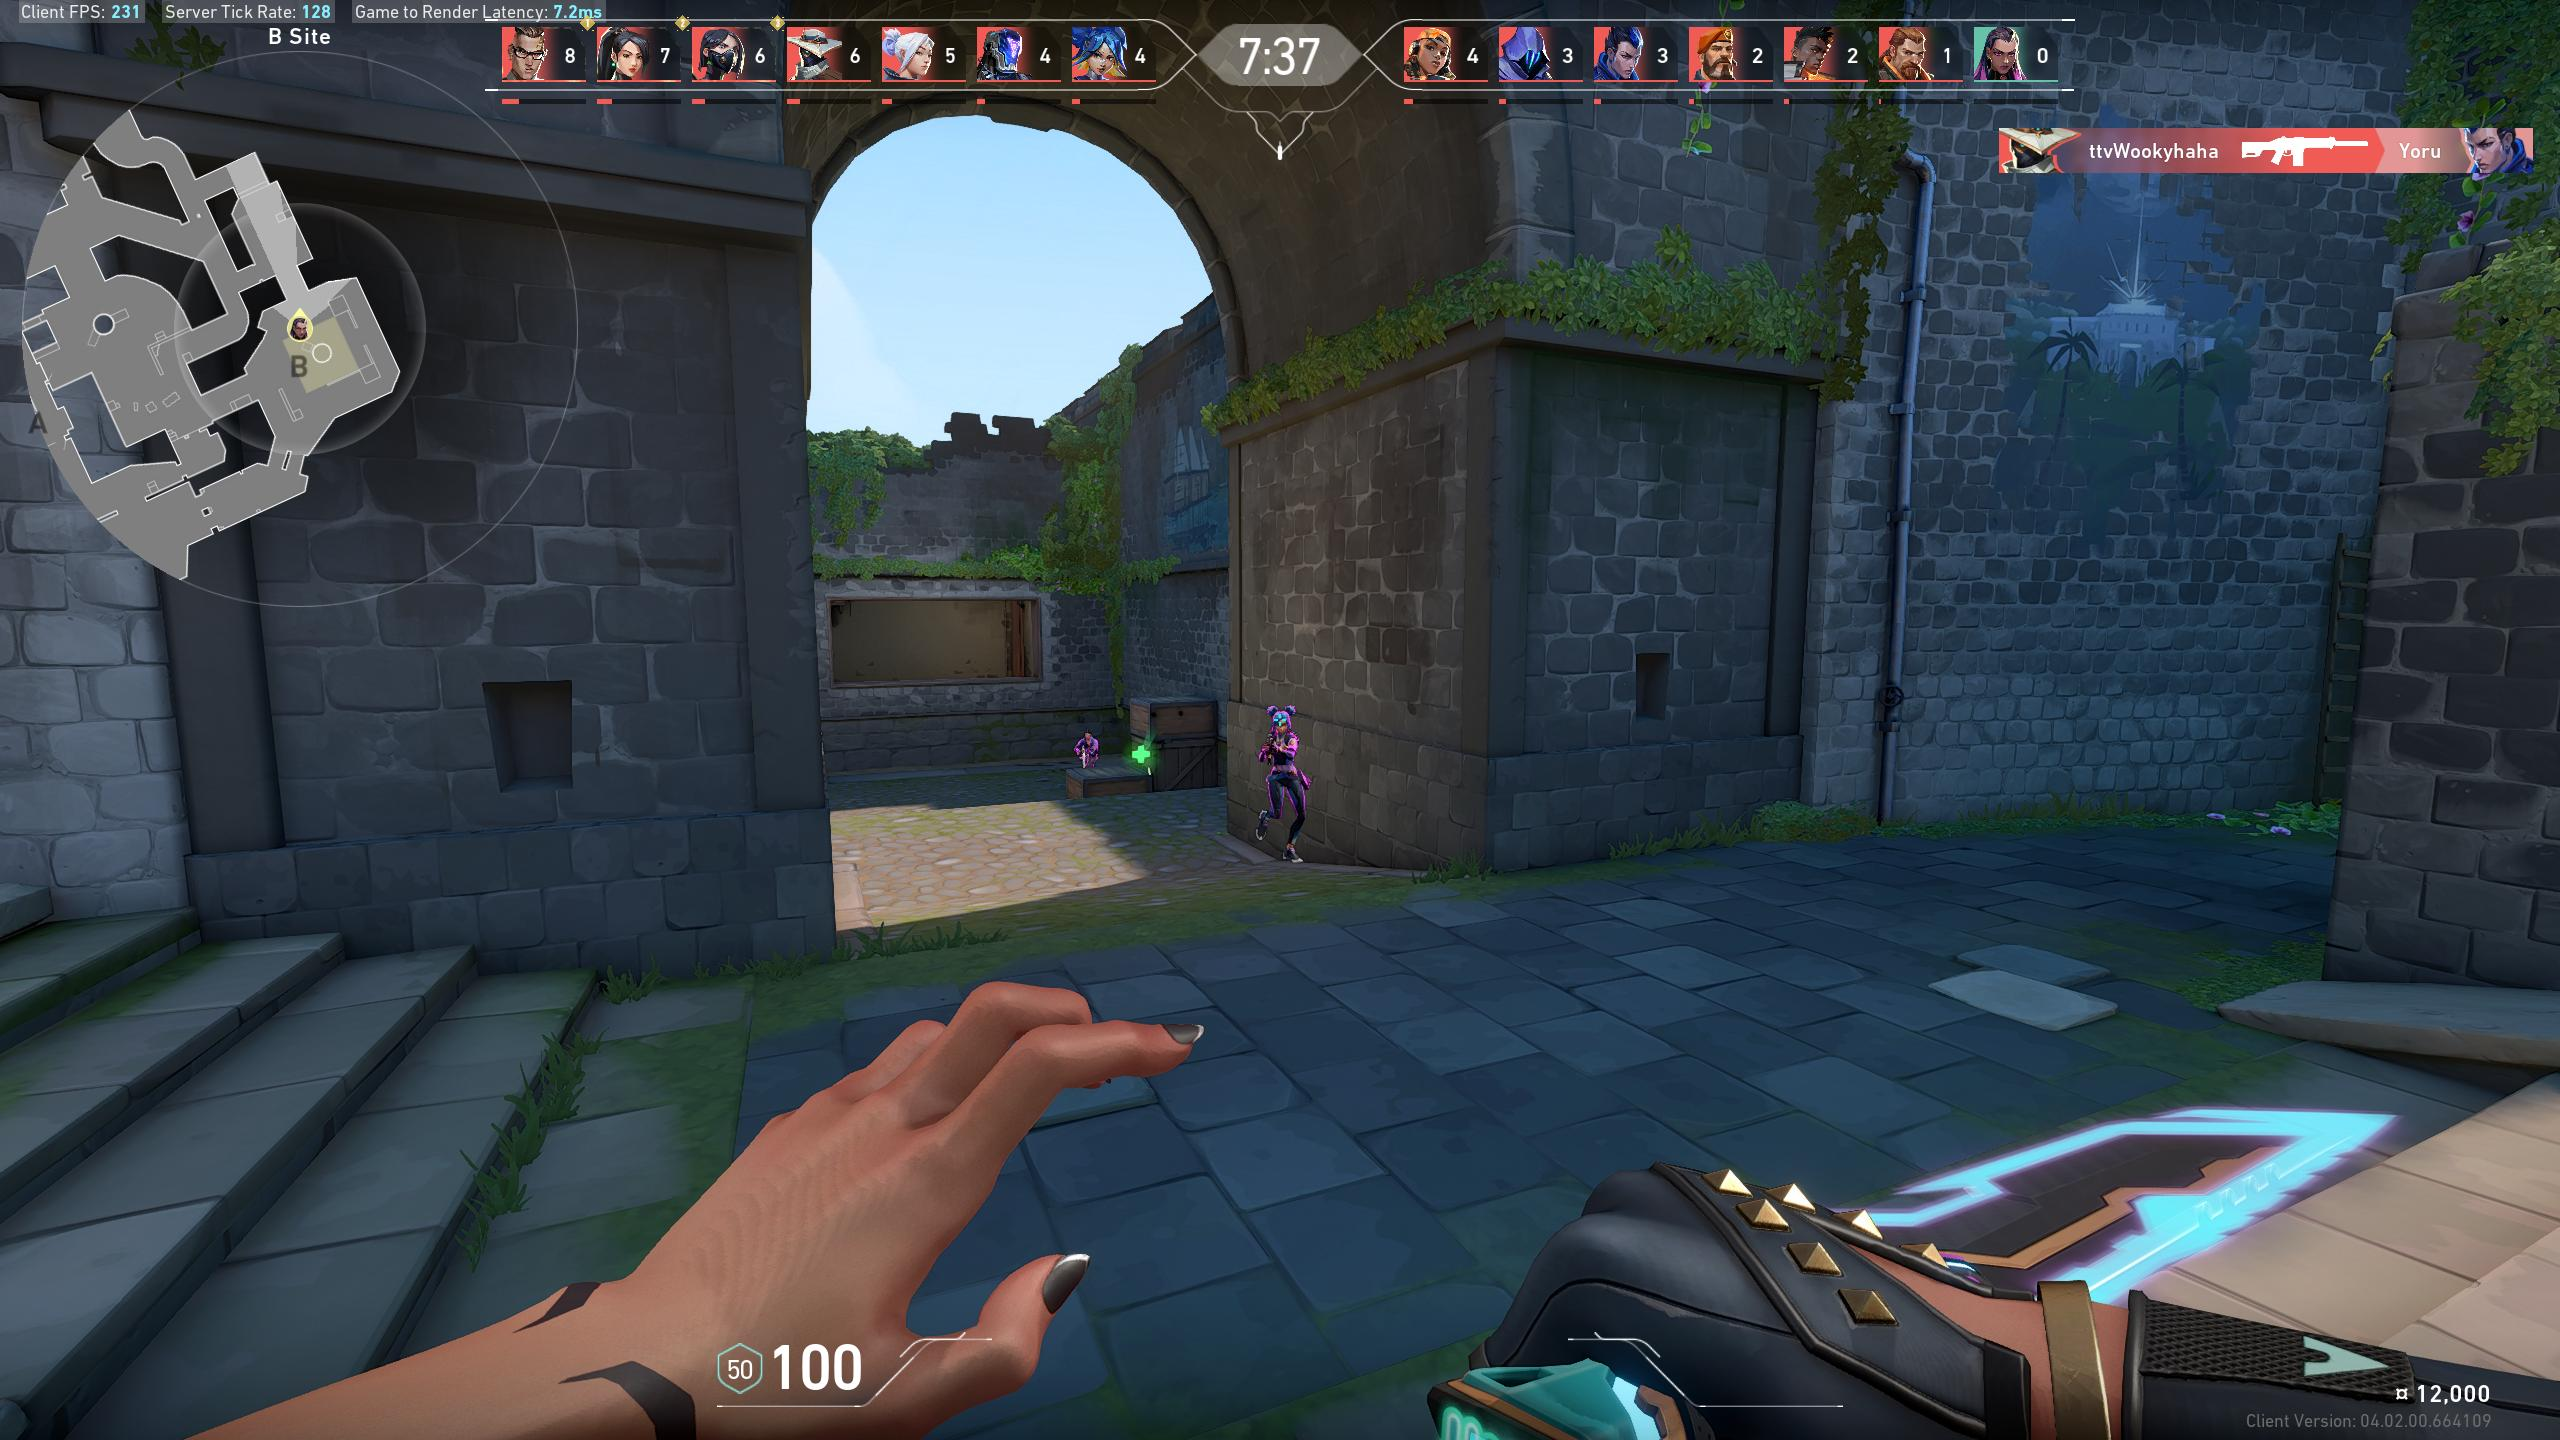enemyBody: (1273, 738, 1292, 770), (1085, 740, 1095, 756)
enemyHead: (1275, 714, 1289, 733), (1085, 731, 1092, 738)
